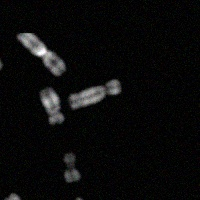chromosome: (15, 33, 65, 74), (70, 80, 121, 109), (39, 88, 64, 124), (63, 153, 82, 182), (5, 193, 32, 200), (0, 58, 1, 78), (68, 199, 86, 200)
